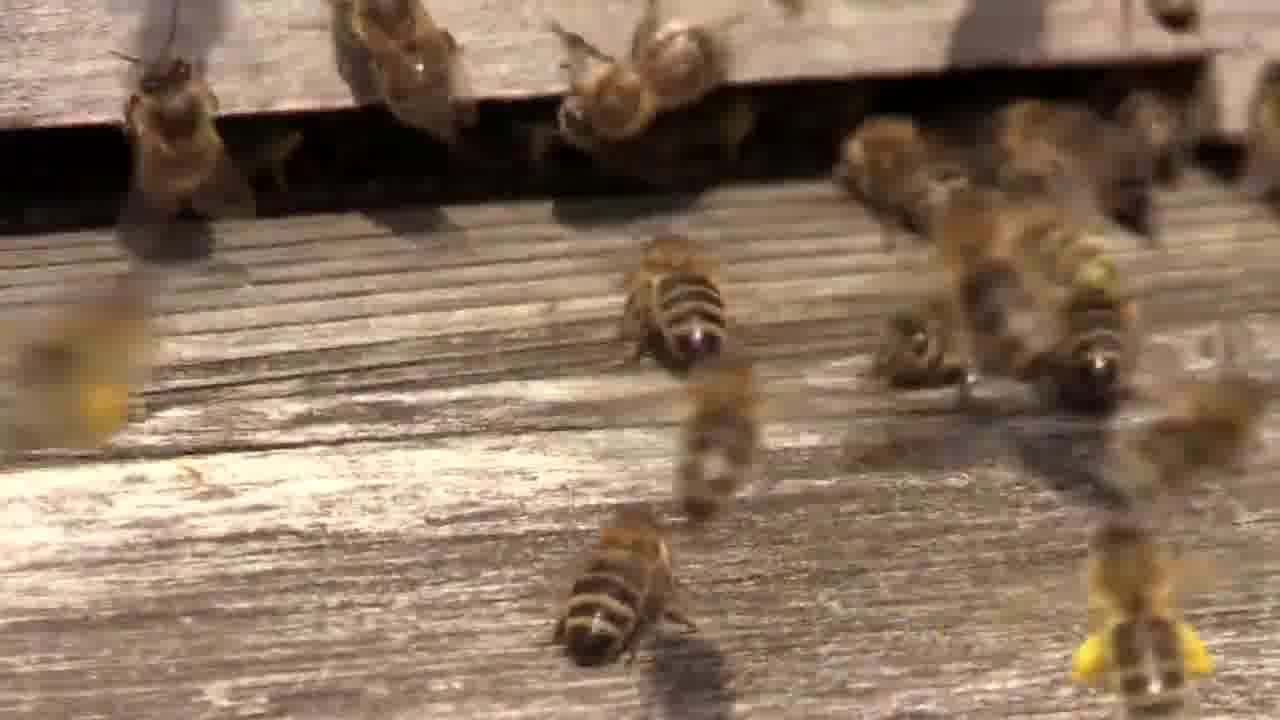pollen: (1066, 524, 1229, 720)
